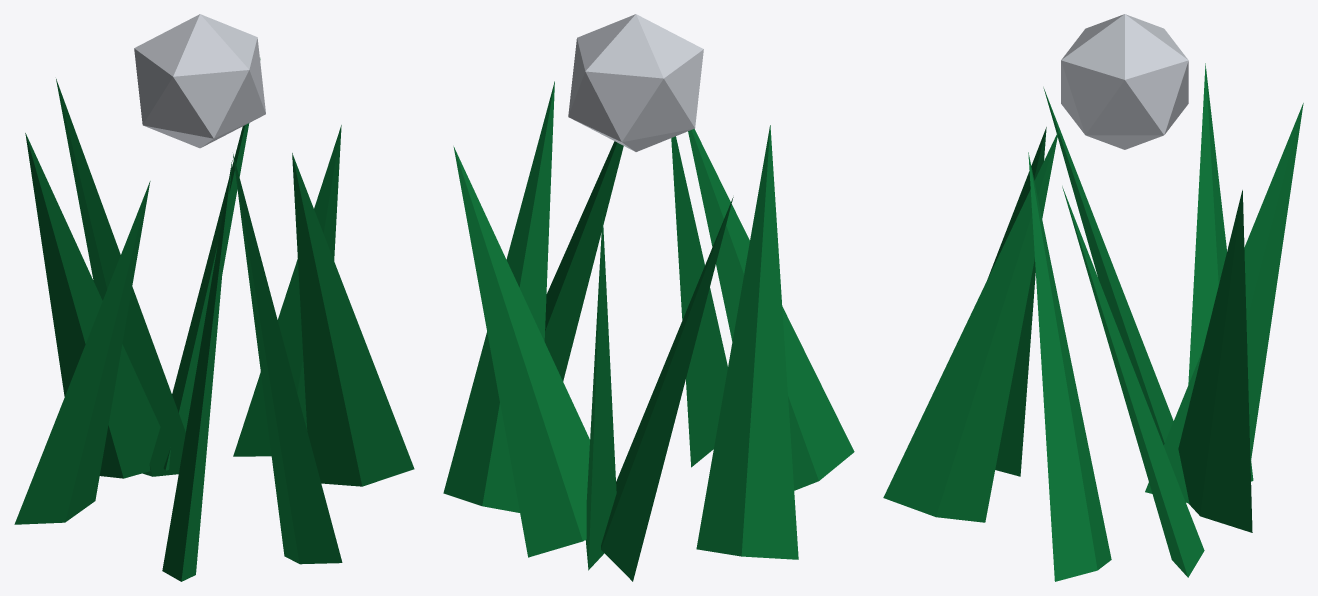
File: Prop_OR_Herb_23.glb
3 views of the same model, side by side, from view 1: azimuth 30°, elevation 25°; view 2: azimuth 150°, elevation 25°; view 3: azimuth 270°, elevation 25° (orthographic). The views are drawn at different scales.
Visible parts, largest first — view 1: Prop_OR_Herb_23; view 2: Prop_OR_Herb_23; view 3: Prop_OR_Herb_23.
Boxes of the visible parts, bbox=[...] form: Prop_OR_Herb_23: bbox=[14, 14, 414, 581]; Prop_OR_Herb_23: bbox=[443, 14, 854, 581]; Prop_OR_Herb_23: bbox=[883, 14, 1303, 581].
Size of the model in its own units: 0.3737 by 0.5029 by 0.3824.
